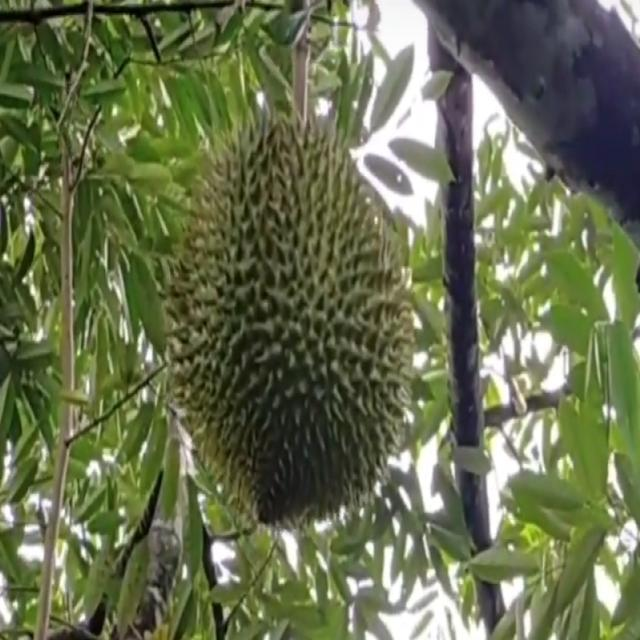immature: (164, 108, 413, 544)
